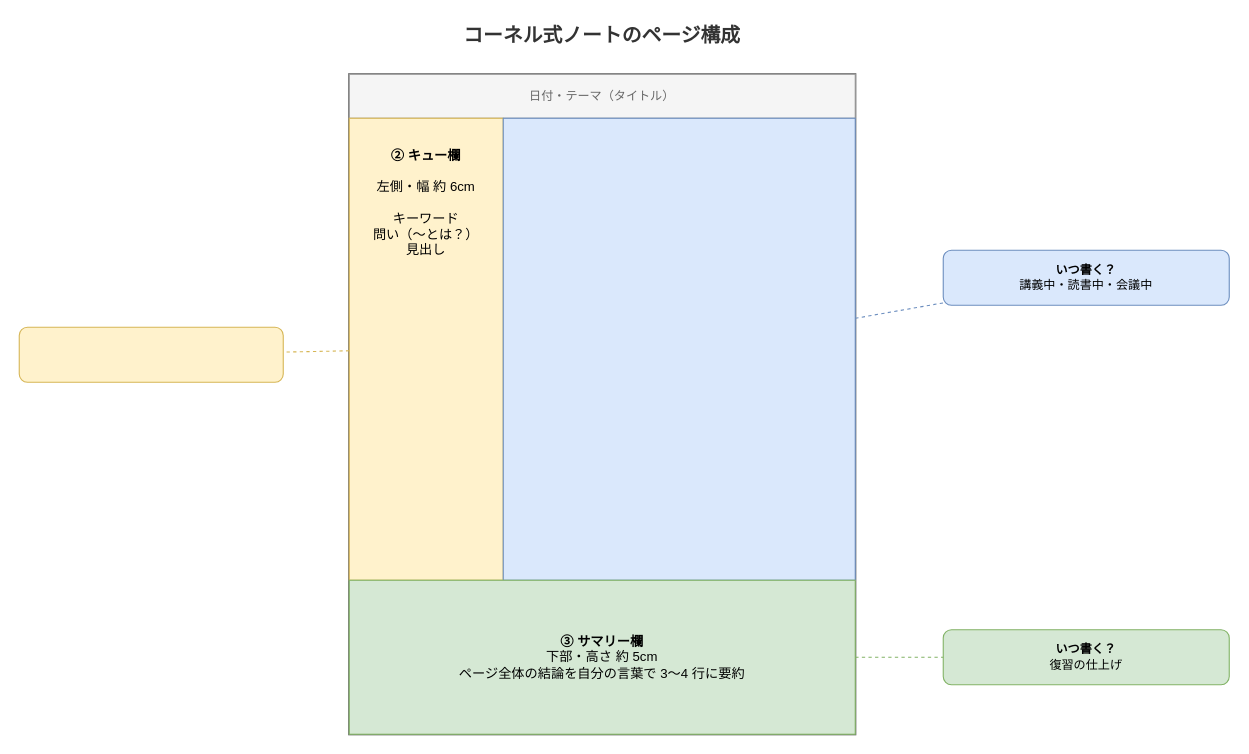
Some shapes in this 1249 by 754 pixel diagram are drawn without their labels. The shapes that lost their labels are listed below. From the top down, each one's centre as x and y in pixels, then its label:
At (150,354): "いつ書く？ 講義・会議の直後（復習時）".
At (678,348): "① ノート欄 右側・いちばん広いスペース 講義・読書・会議の内容 箇条書き、図解".
